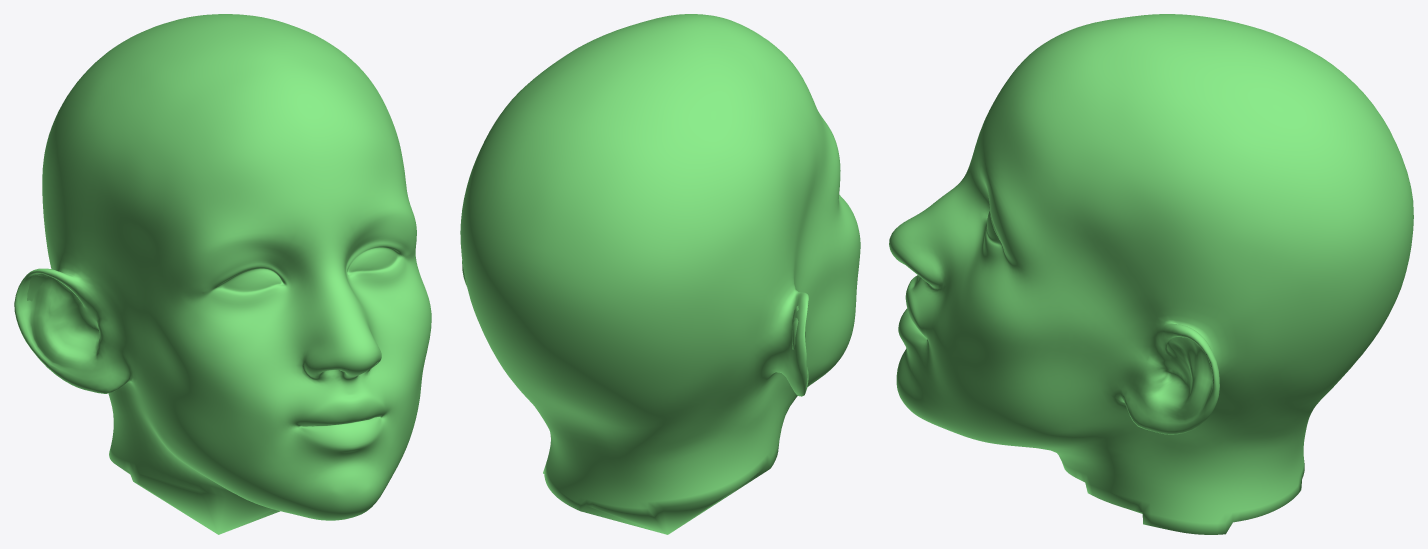
File: animated.gltf
The picture shows the model from 3 angles, left to right: view 1: azimuth 30°, elevation 25°; view 2: azimuth 150°, elevation 25°; view 3: azimuth 270°, elevation 25°; orthographic projection. The views are drawn at different scales.
Parts seen in each view (by area): view 1: FaceBuilderHead; view 2: FaceBuilderHead; view 3: FaceBuilderHead.
Part boxes in pixels (x1,y1,x2,y2): FaceBuilderHead: (14,14,431,534); FaceBuilderHead: (460,14,860,534); FaceBuilderHead: (889,14,1413,534).
Bounding box in the file's own units: 0.4578 × 0.5894 × 0.5519.
